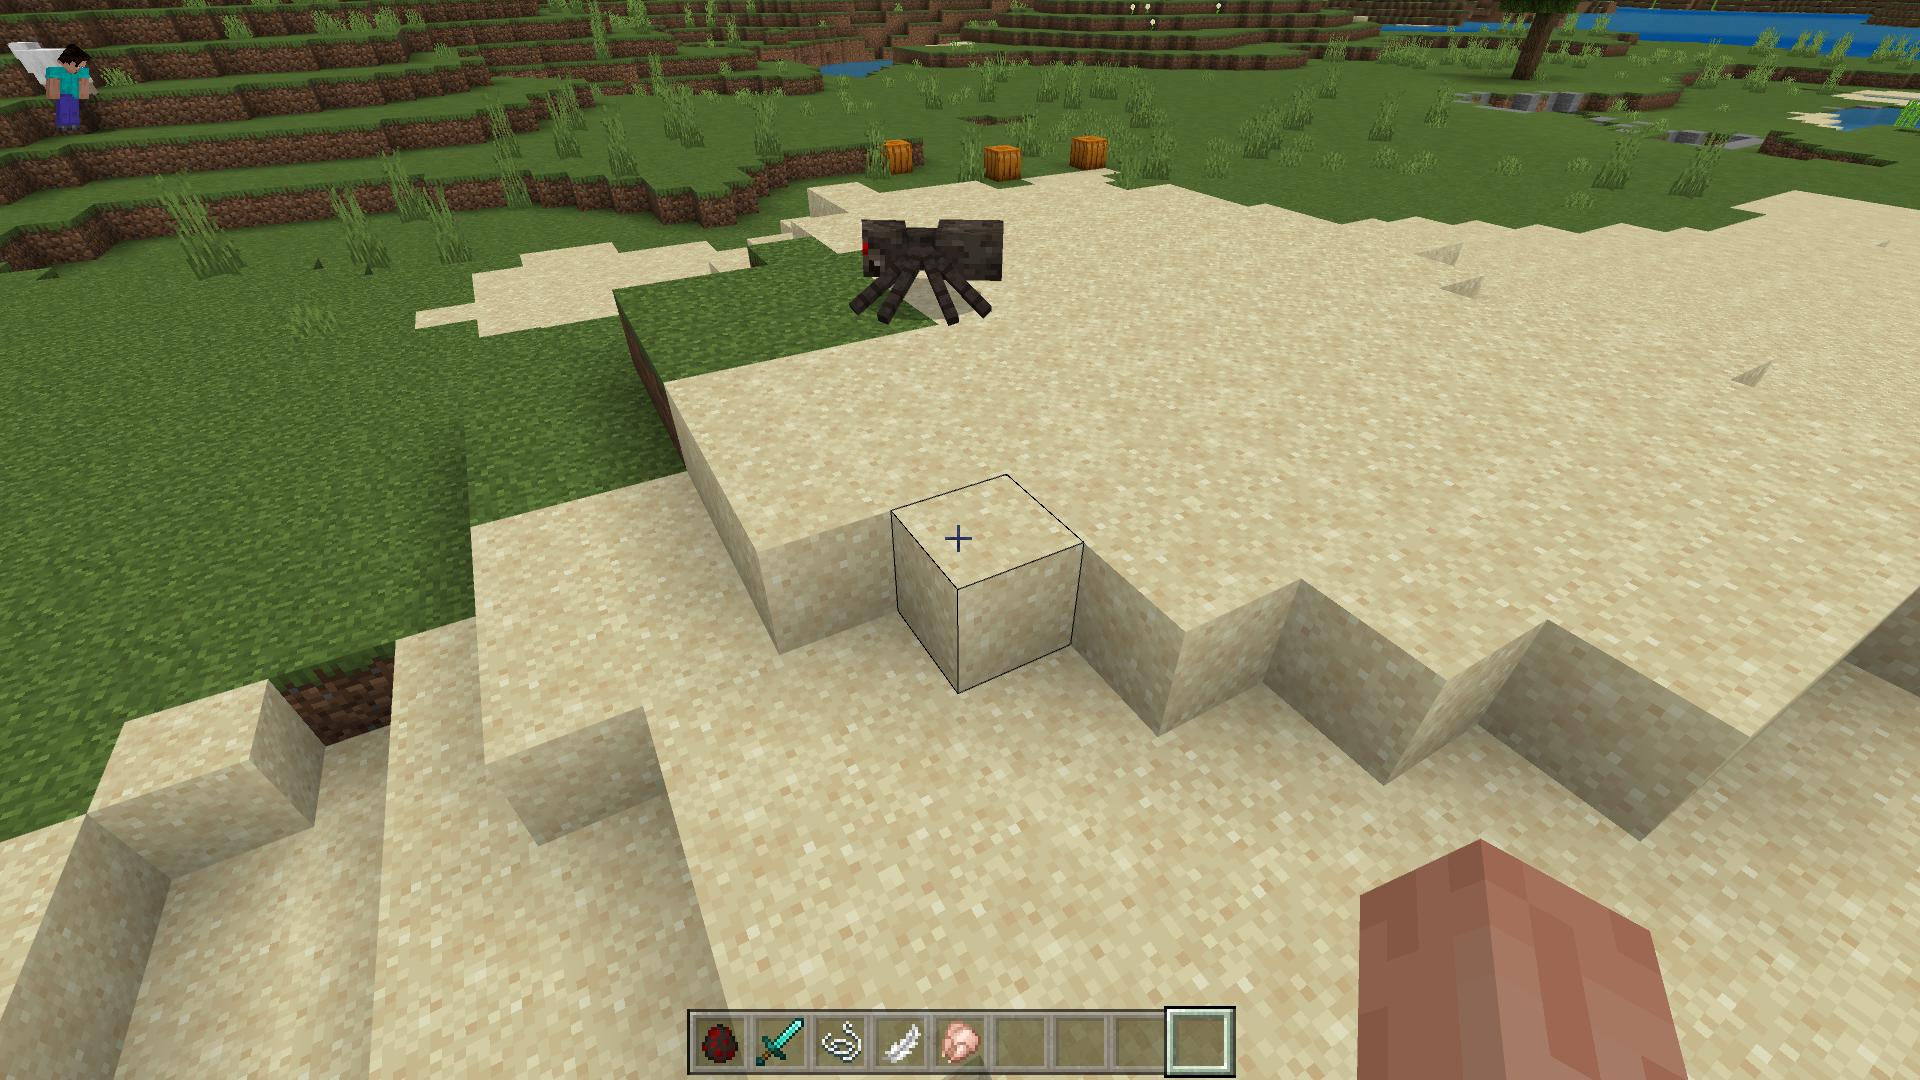spider: (853, 215, 1010, 327)
